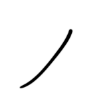no: (16, 24, 77, 90)
